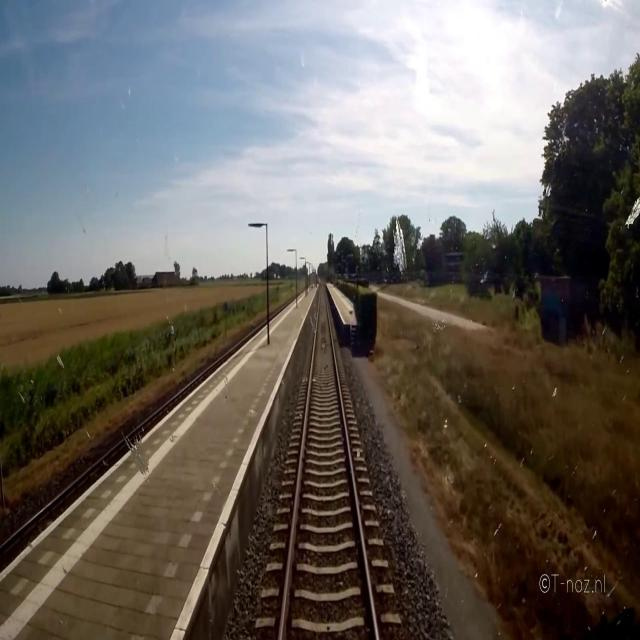rail-track: (282, 279, 375, 639)
